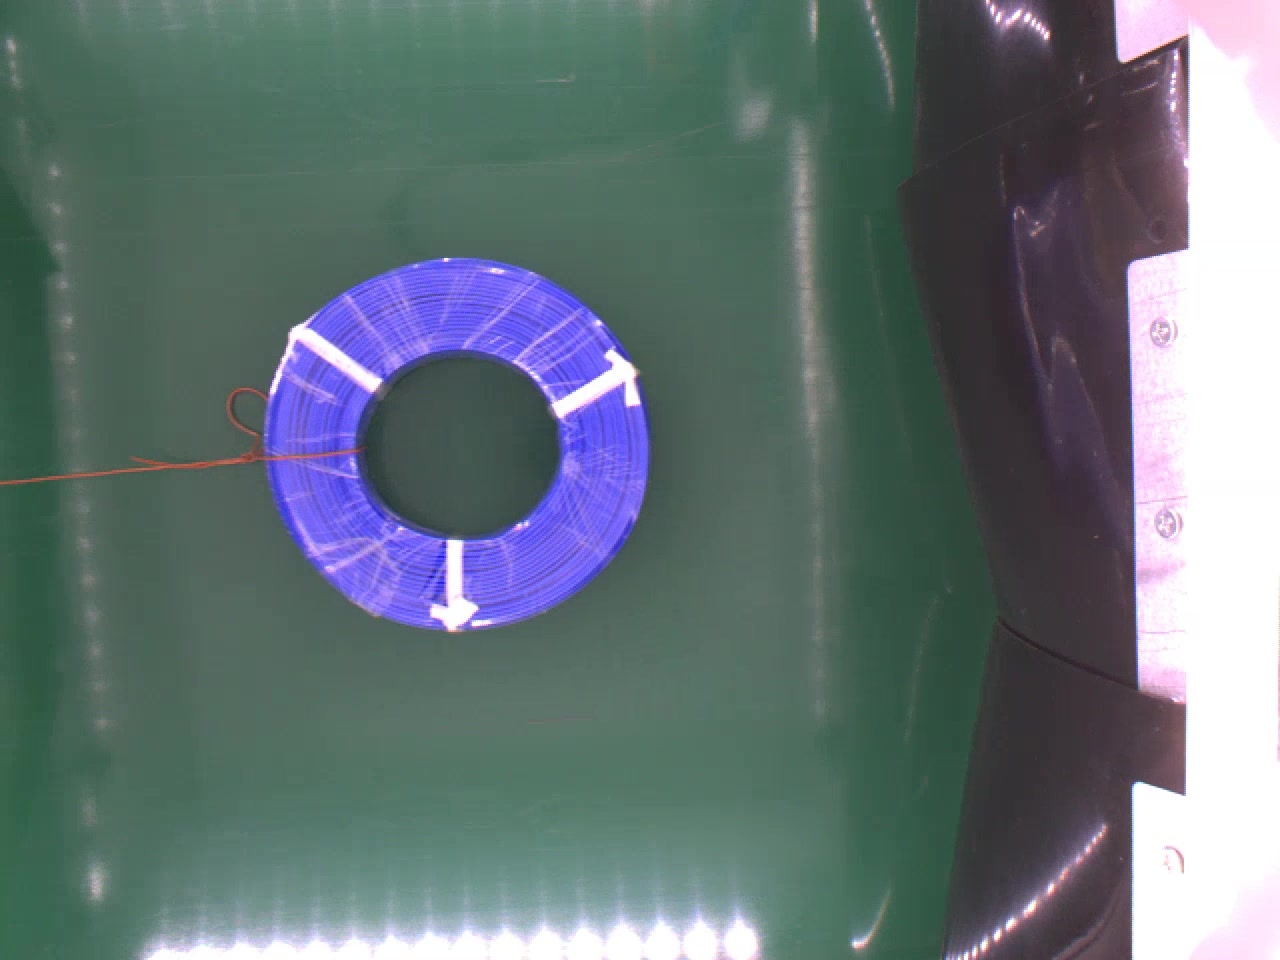blue: (265, 253, 646, 622)
